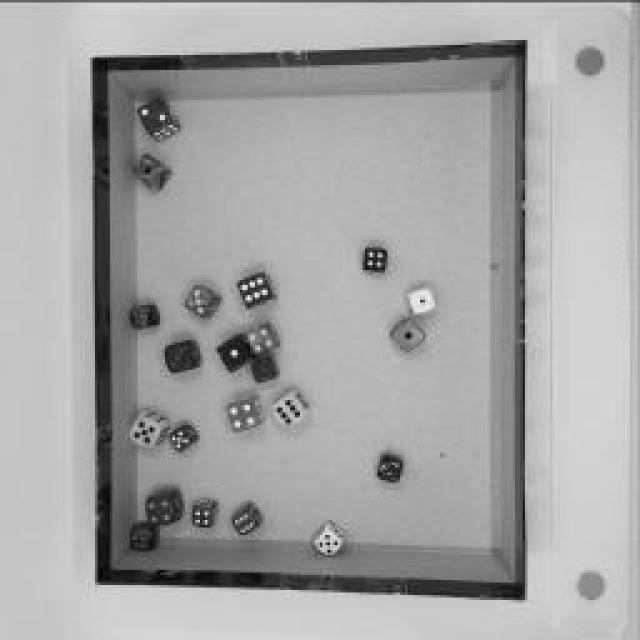dice_1: (214, 330, 256, 372), (131, 151, 174, 191), (388, 312, 428, 352), (406, 285, 439, 315), (250, 352, 280, 382)
dice_2: (136, 92, 184, 140)
dice_3: (181, 281, 224, 319), (162, 336, 202, 374), (376, 451, 406, 484)
dice_4: (146, 486, 186, 529), (224, 392, 266, 432), (242, 318, 282, 358), (129, 520, 161, 552), (190, 495, 220, 527), (129, 301, 161, 331), (361, 245, 391, 275)
dice_5: (129, 408, 171, 448), (315, 515, 350, 557), (169, 416, 201, 452)
dice_6: (235, 266, 280, 309), (270, 388, 312, 432), (231, 498, 264, 538)
